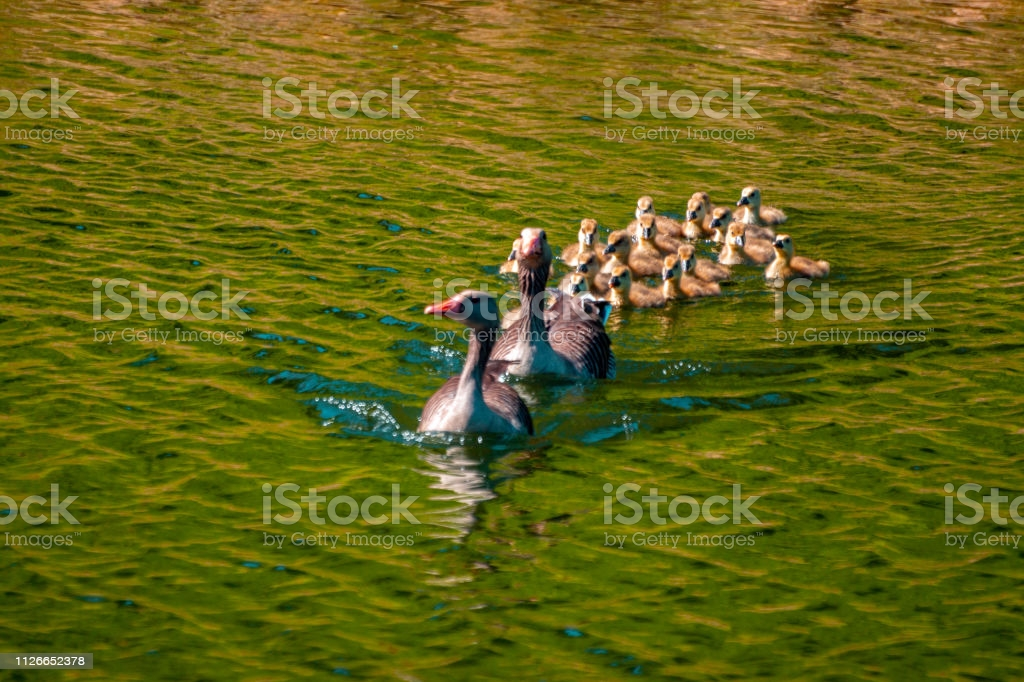goose: (486, 223, 611, 383), (414, 288, 539, 445)
